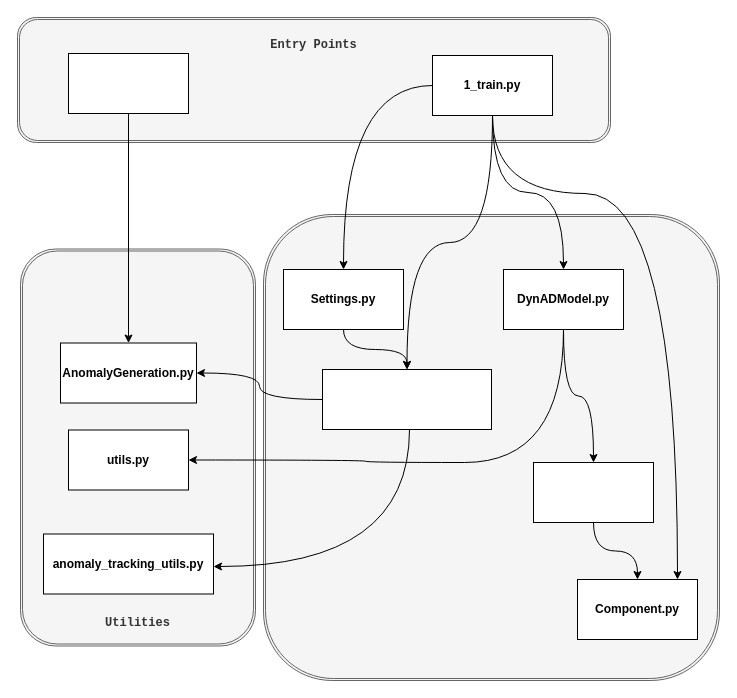
Some shapes in this 737 by 698 pixel diagram are drawn without their labels. Each missing label, with the box of its shape:
0_prepare_data.py: (68, 52, 188, 114)
BaseModel.py: (532, 462, 654, 522)
Core Components: (262, 214, 720, 680)
DynamicDatasetLoader.py: (322, 368, 492, 430)
